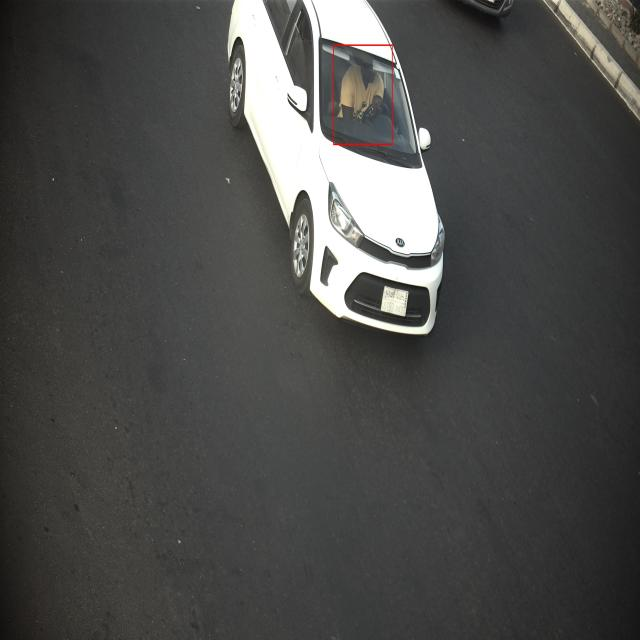windshield: (317, 32, 426, 176)
